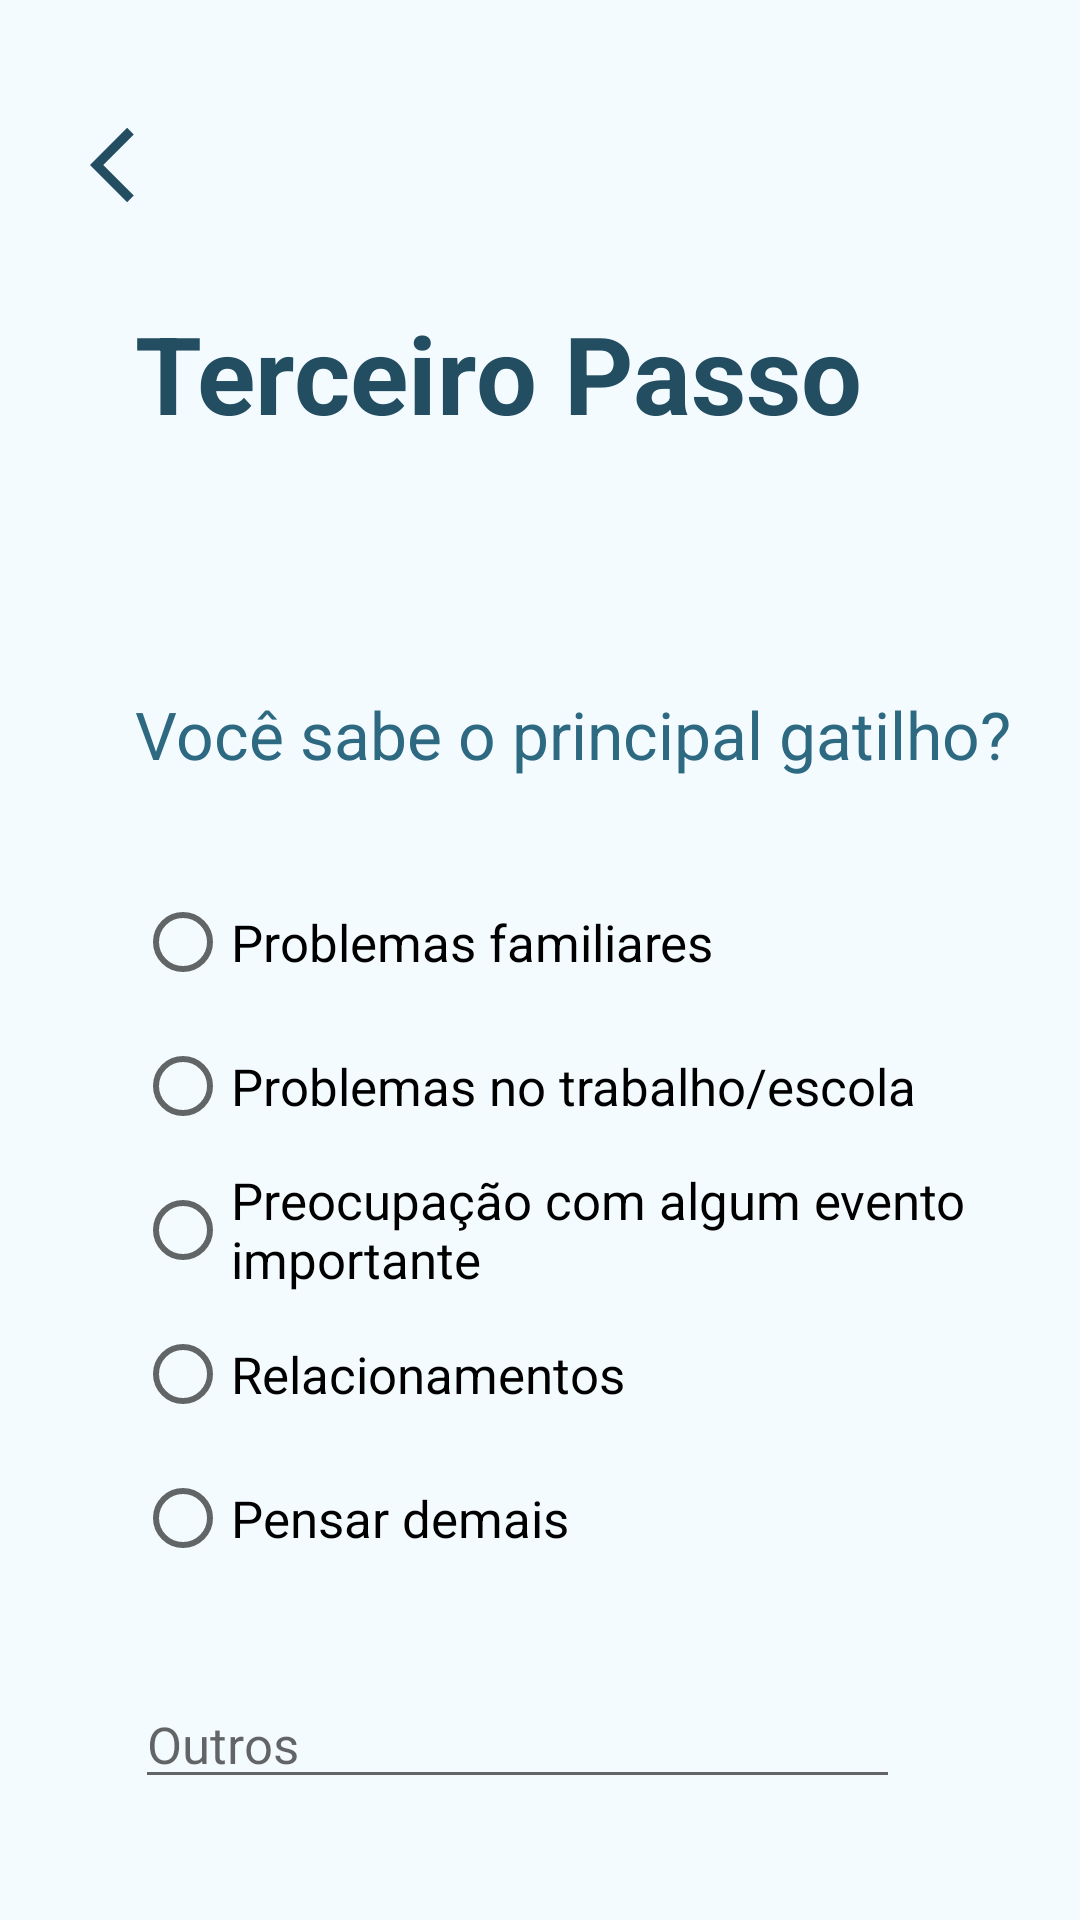

Icons on this 1080 x 1920 Android screen, each with its box as (x1, y1, x2, y2):
voltarrr: (90, 128, 134, 202)
